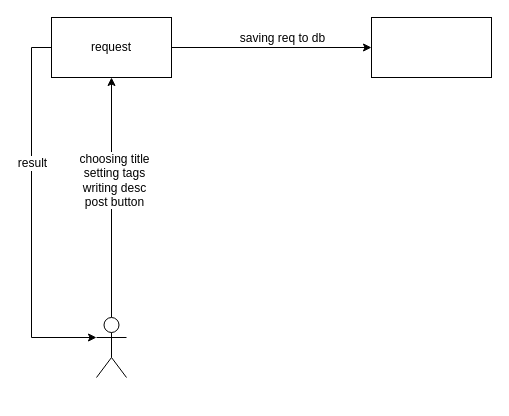
Image size: 509x416. Some labels were removed from this diagram. Each missing label, with the centre of its shape:
"data bae" goes at (431,47).
"student" goes at (111,347).
